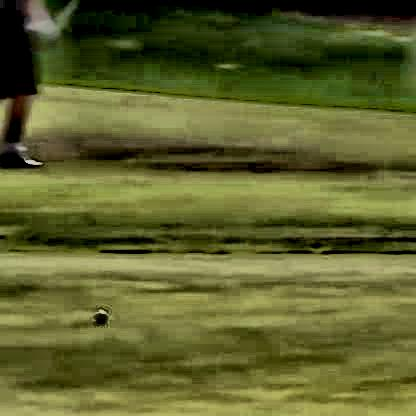golfball: (92, 306, 105, 322)
